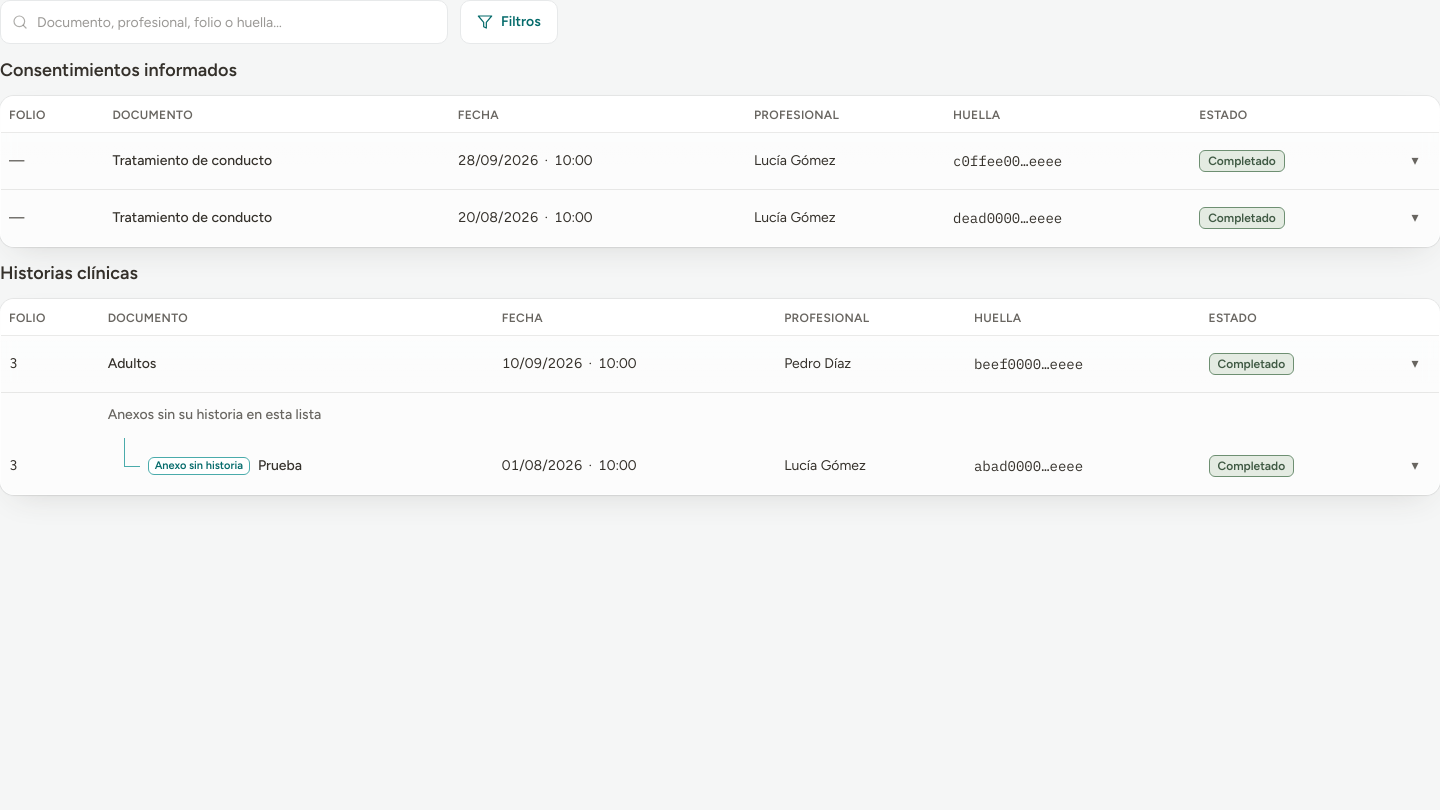
Test: RegistroDeDocumentos › un atajo precarga las dos fechas
Click the button "Filtros".
click(509, 22)  # box x1=460 y1=0 x2=558 y2=44
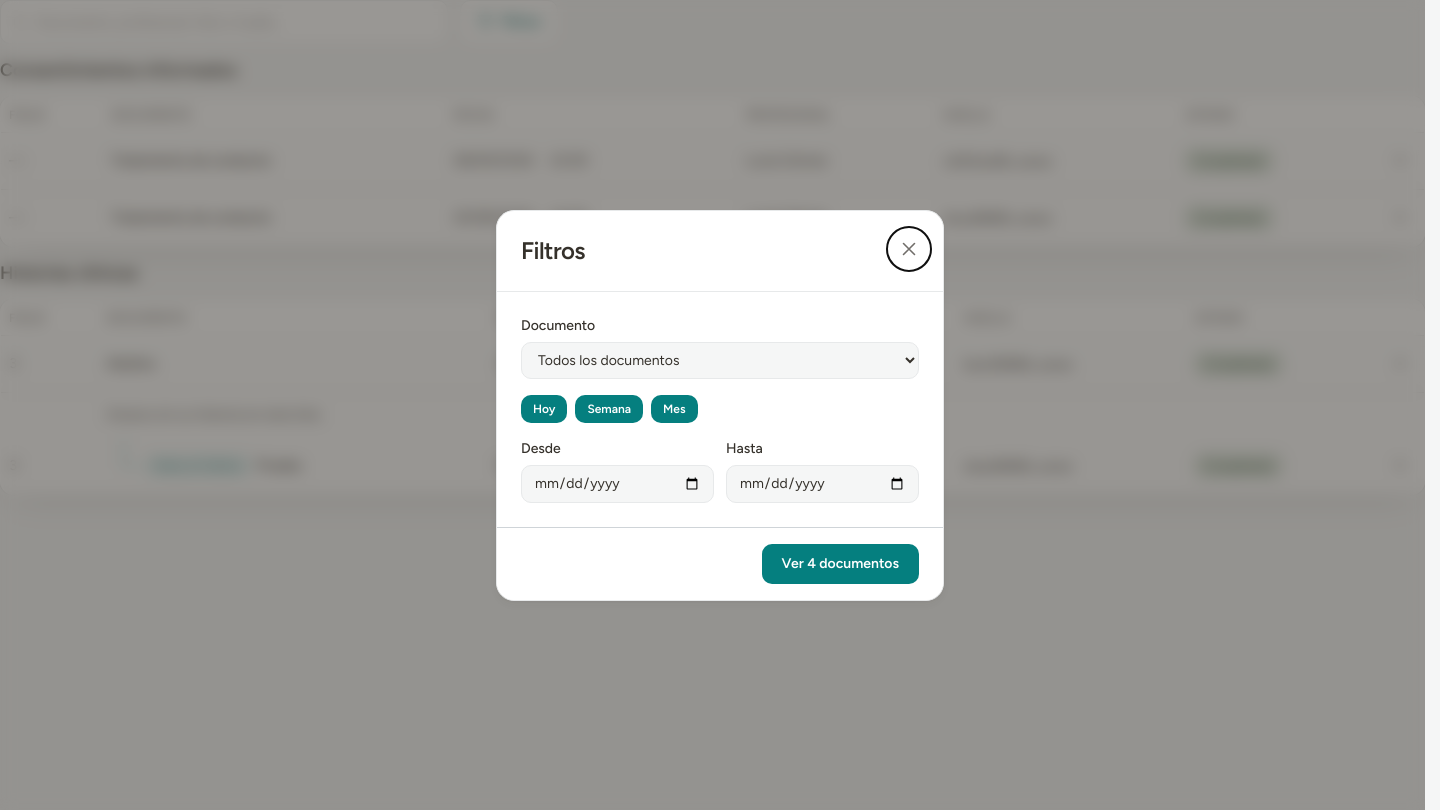
Click the button "Hoy".
click(544, 408)  # box x1=521 y1=394 x2=567 y2=422
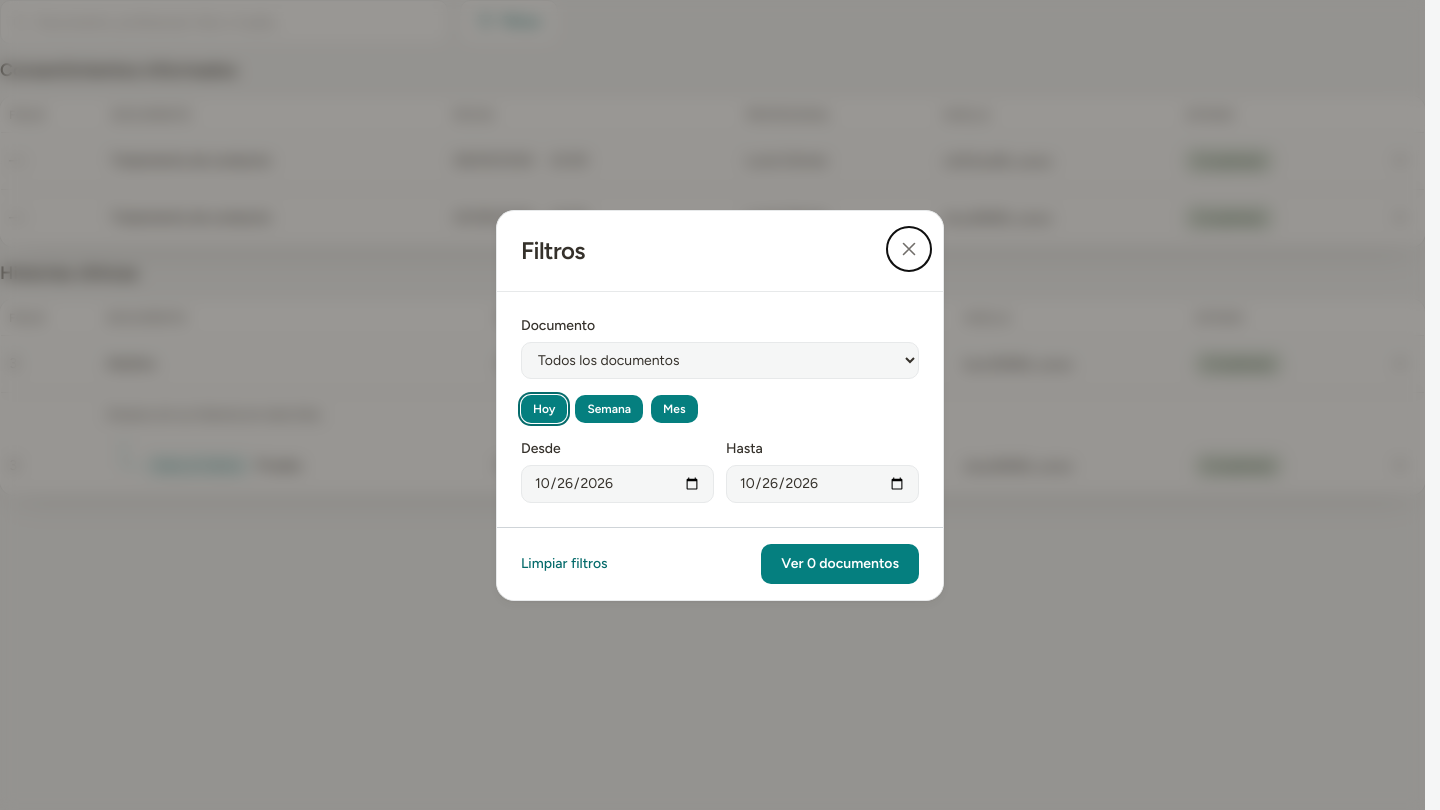
Expected: the date field labelled "Desde" is not empty, x1=521 y1=464 x2=714 y2=502
Expected: the date field labelled "Hasta" is not empty, x1=726 y1=464 x2=919 y2=502
